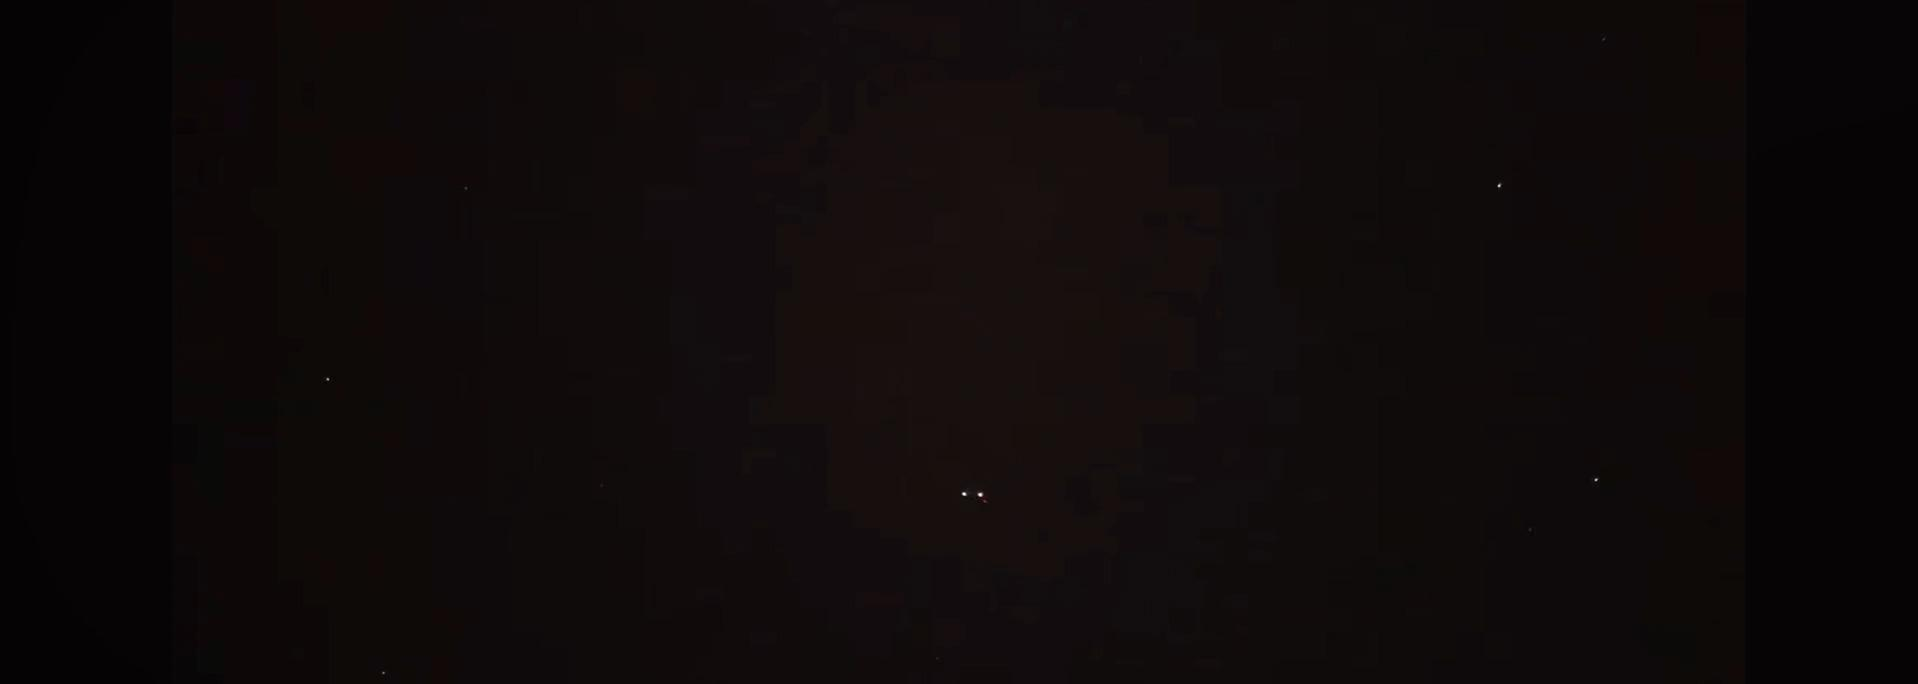Plane: (942, 482, 1007, 508)
